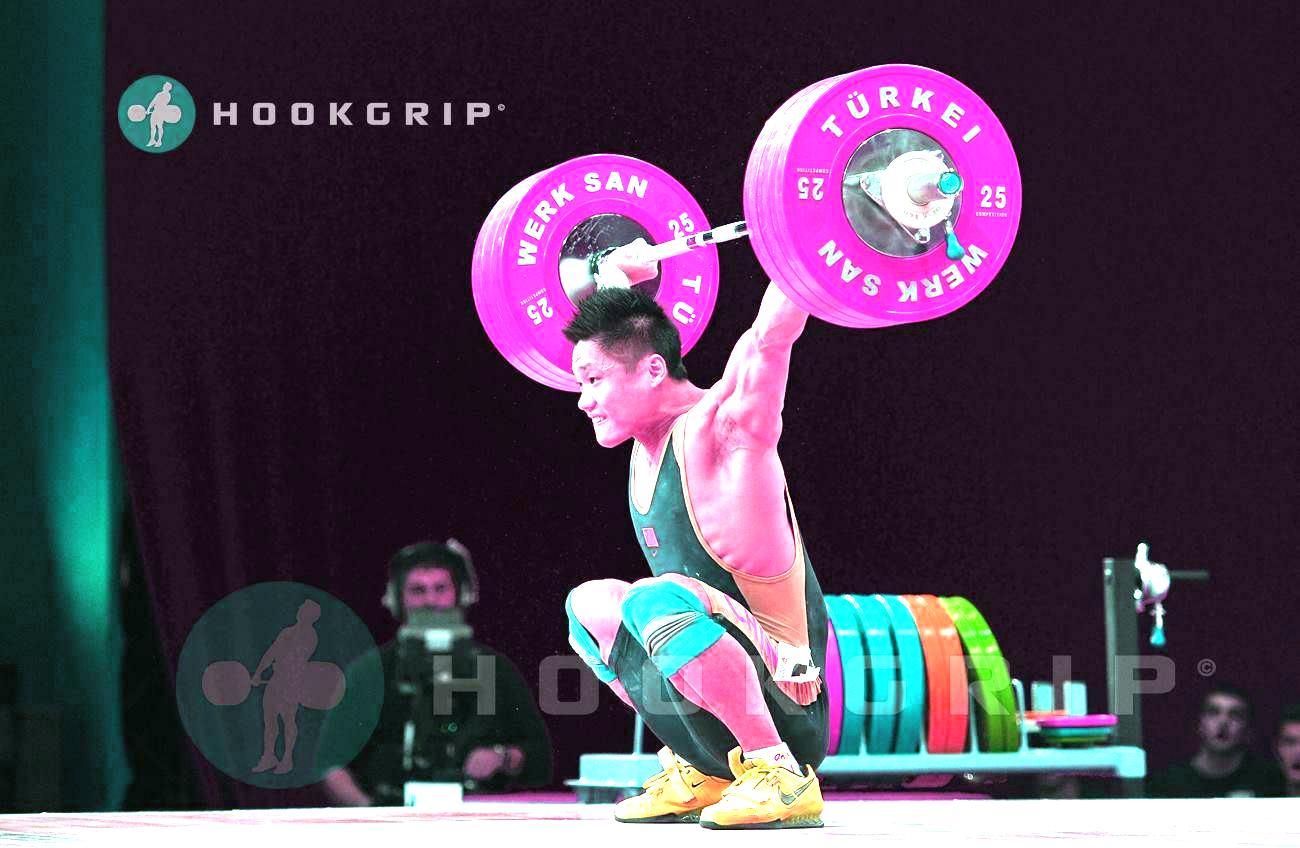Barbell: (933, 163, 967, 204)
